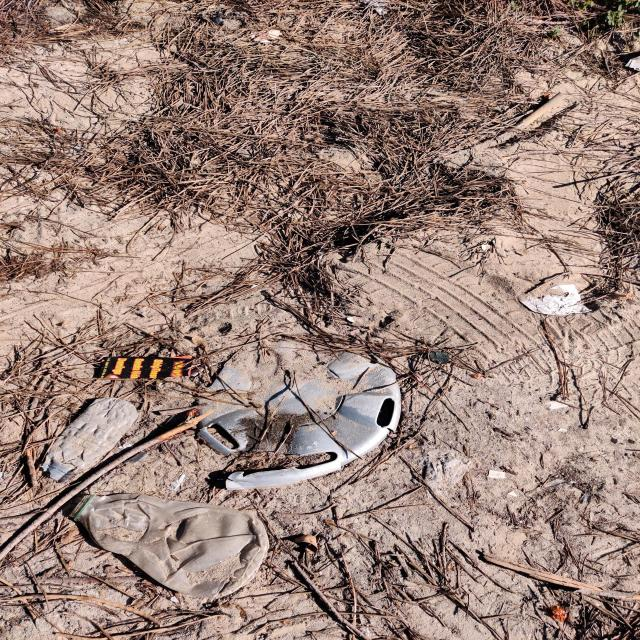litter: (197, 348, 401, 491), (68, 493, 270, 598), (41, 397, 138, 484), (408, 443, 471, 498), (518, 284, 592, 317), (99, 356, 194, 379), (113, 444, 148, 464), (249, 29, 284, 45), (169, 473, 185, 490), (544, 479, 570, 489), (544, 401, 570, 409), (487, 469, 506, 479), (68, 146, 84, 155)
